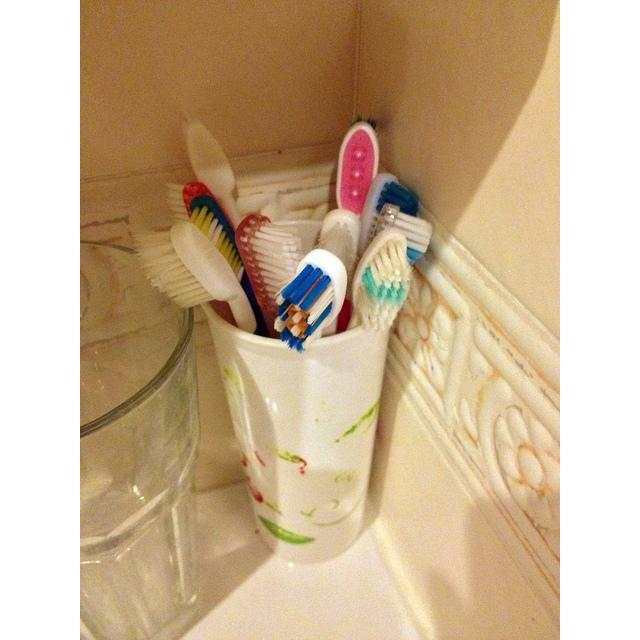toothbrush: (195, 304, 392, 564), (81, 241, 200, 631), (134, 222, 258, 334), (188, 194, 266, 338), (236, 214, 304, 338), (274, 250, 348, 354), (181, 119, 243, 229), (346, 233, 410, 331), (357, 172, 419, 255), (358, 202, 432, 264), (336, 122, 380, 218), (318, 208, 362, 276), (182, 182, 216, 218)
